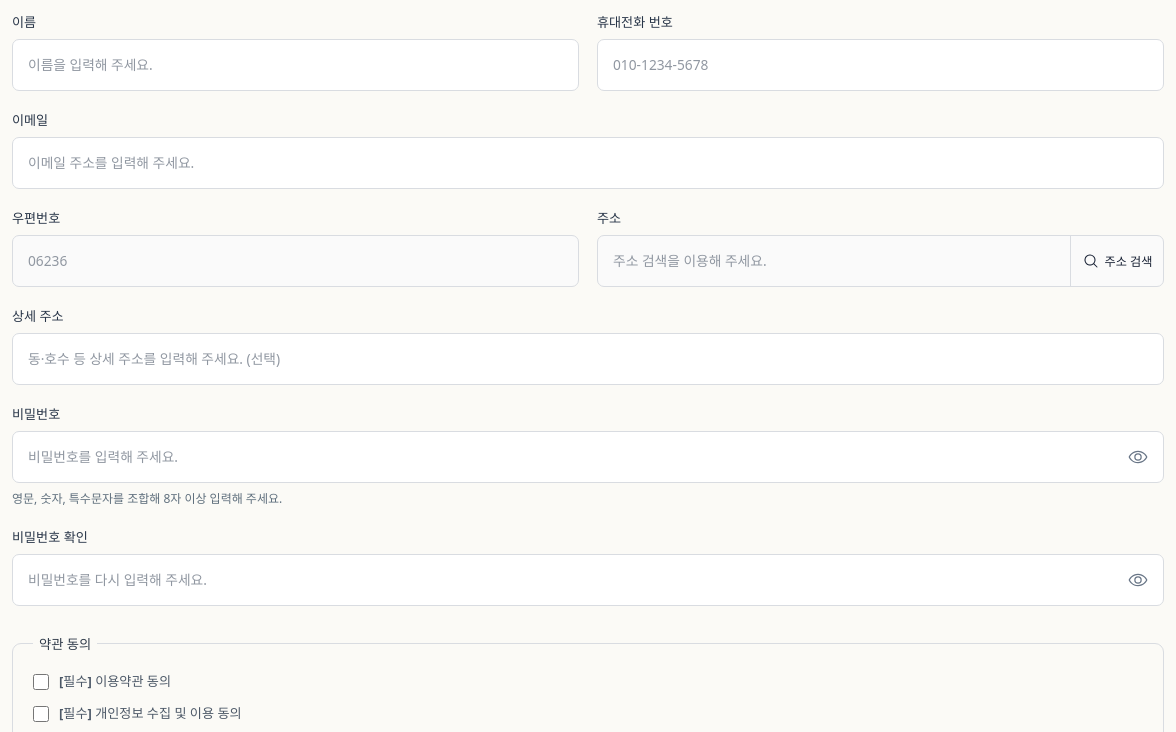
Test: ConsumerSignupForm › 주소 검색이 실패하면 이유를 알린다
The image size is (1176, 732).
Click the button "주소 검색". click: (1117, 261)
box: 1070,235 -> 1164,287
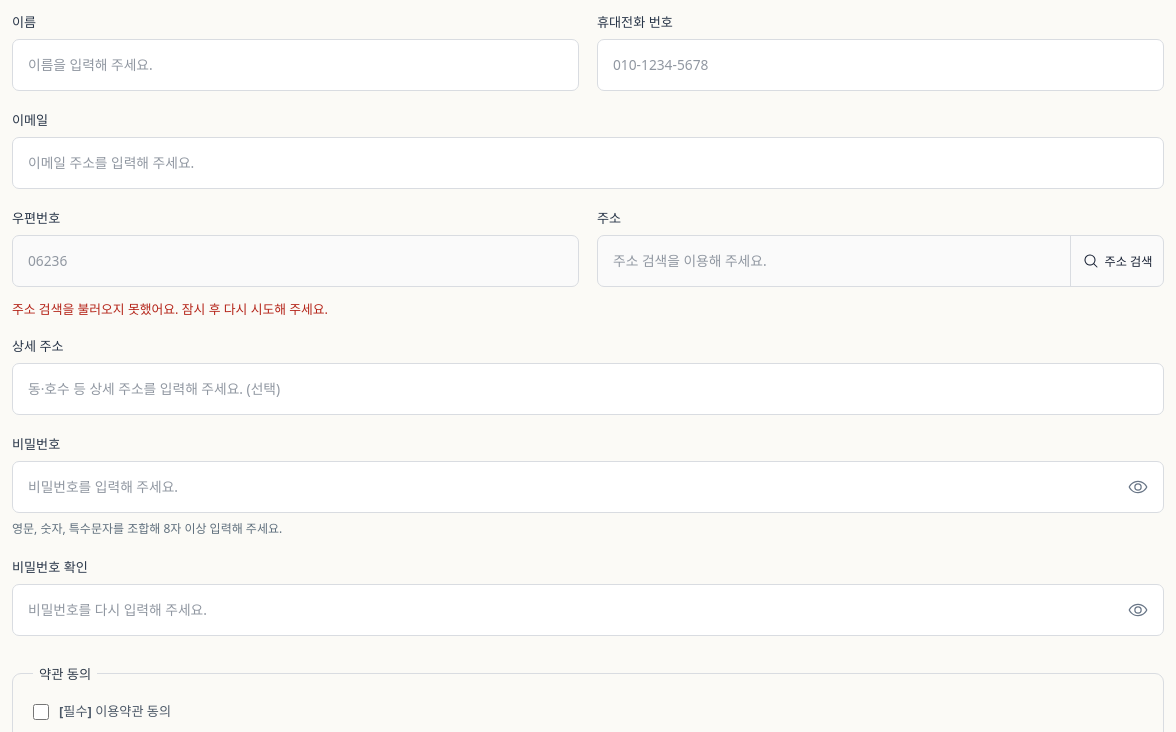
Check: the field labelled "우편번호" is empty, box 12,235 -> 579,287
Check: the message shows "주소 검색을 불러오지 못했어요", box 12,300 -> 328,318
